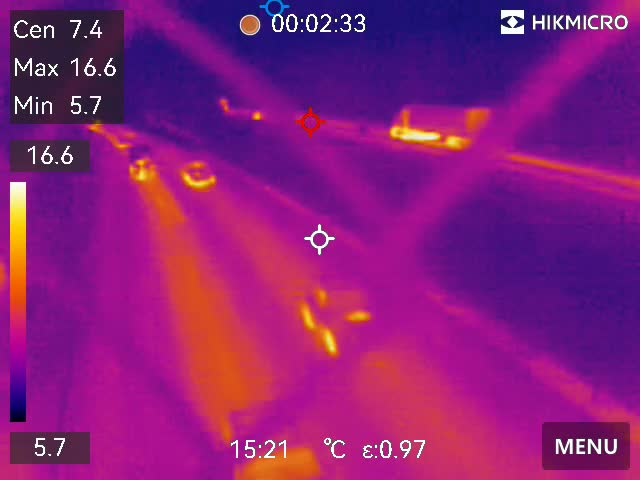heavyTruck: (391, 100, 490, 149)
